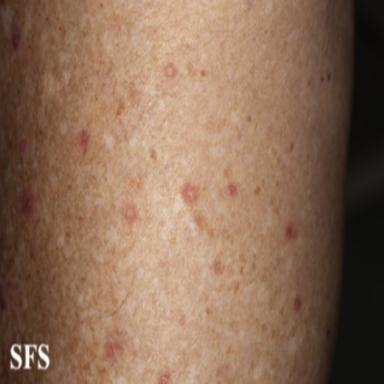Porokeratosis: (104, 339, 123, 363), (22, 188, 35, 216), (182, 182, 197, 205), (79, 129, 90, 152), (125, 205, 138, 223), (164, 62, 177, 79), (285, 222, 297, 240), (212, 259, 224, 275), (159, 372, 170, 384), (228, 182, 237, 196), (294, 295, 301, 311)
